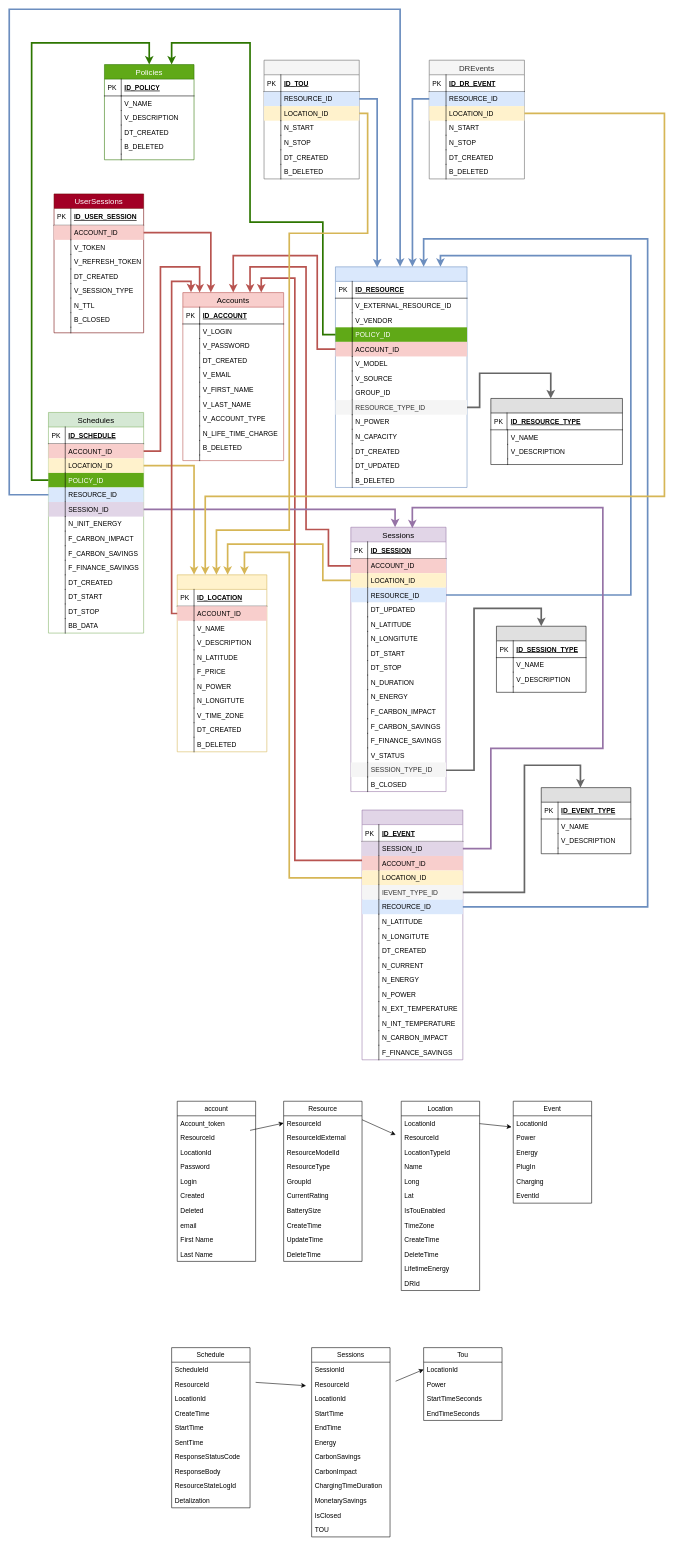
Some shapes in this 674 by 1546 pixel diagram are drawn without their labels. The box of each missing label's shape, as (x1, y1, x2, y2) in pixels:
Events: (361, 809, 463, 1060)
EventTypes: (541, 787, 631, 854)
Locations: (177, 574, 267, 752)
Resources: (335, 266, 467, 487)
ResourceTypes: (490, 398, 622, 465)
SessionTypes: (496, 626, 586, 692)
TimeOfUsages: (263, 60, 359, 179)
